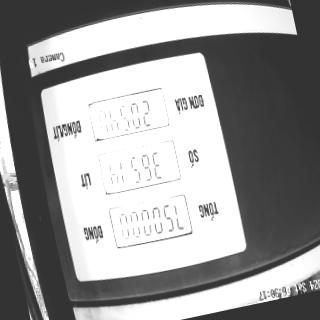screen: (84, 83, 196, 256)
